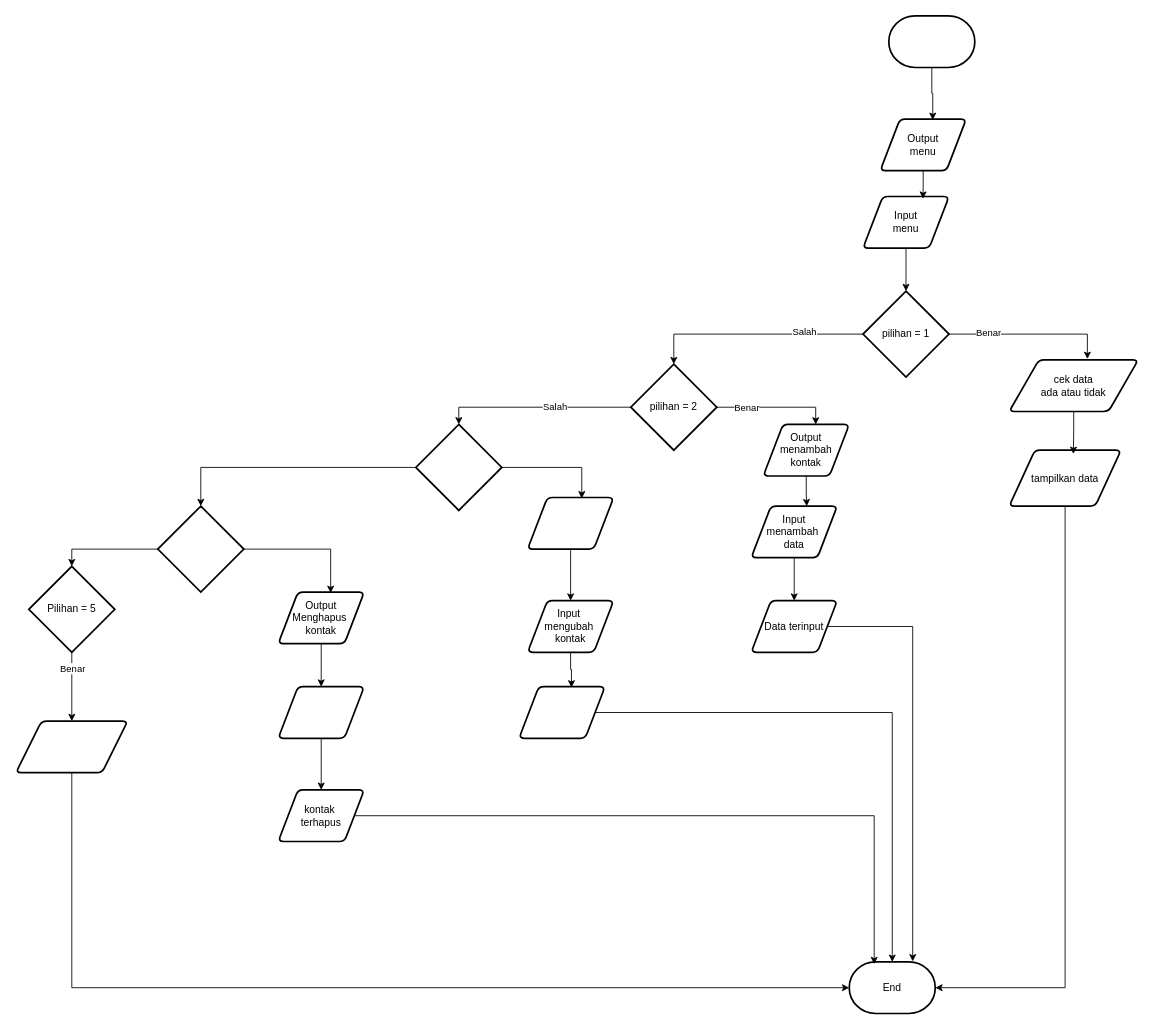
Image size: 1153x1029. Some labels were removed from this diagram. The centre of each missing label's shape, as x and y in pixels:
"Data terubah" goes at (561,712).
"Input menghapus kontak" goes at (321,712).
"Keluar program" goes at (71,746).
"Output mengubah kontak" goes at (570,523).
"pilihan = 3" goes at (458,467).
"pilihan = 4" goes at (200,549).
"start" goes at (931,41).
